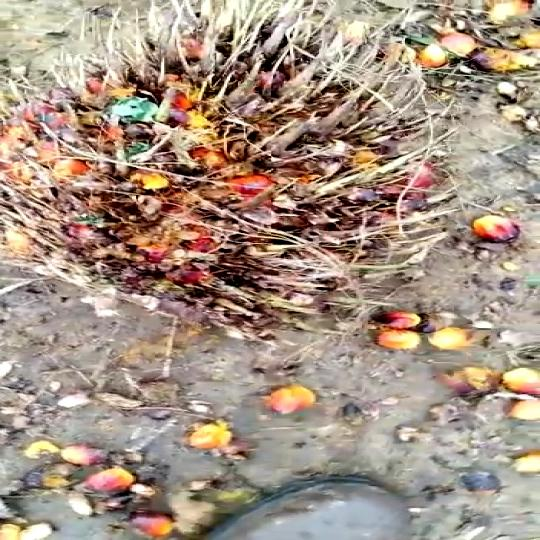terlalu masak: (0, 15, 531, 331)
